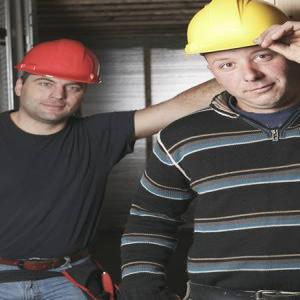red: (18, 40, 103, 124)
yellow: (185, 2, 297, 111)
